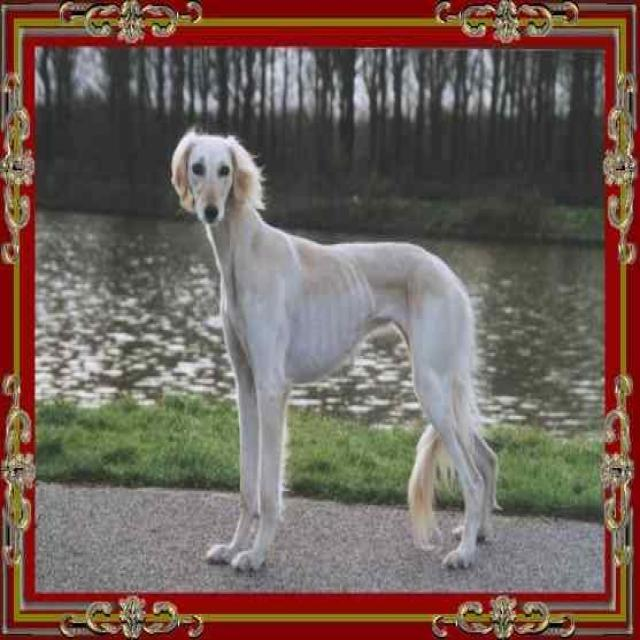saluki: (168, 126, 501, 575)
